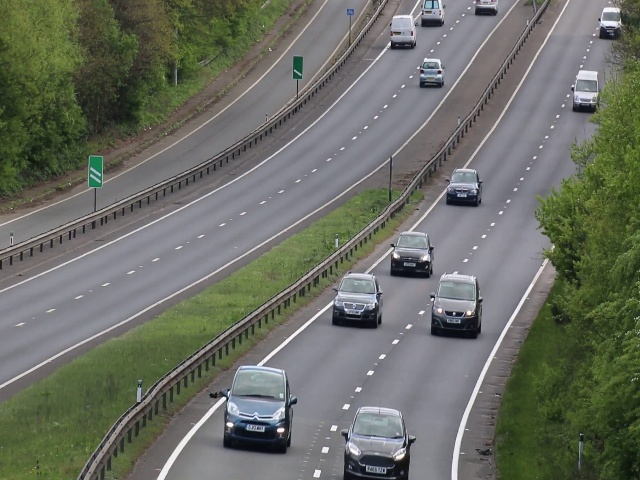car: (222, 363, 291, 454), (344, 408, 410, 480), (430, 275, 485, 338), (333, 272, 382, 328), (388, 231, 435, 278), (446, 166, 482, 208), (573, 66, 599, 111), (390, 16, 419, 49), (418, 56, 445, 87), (599, 9, 620, 39), (421, 1, 445, 24)
